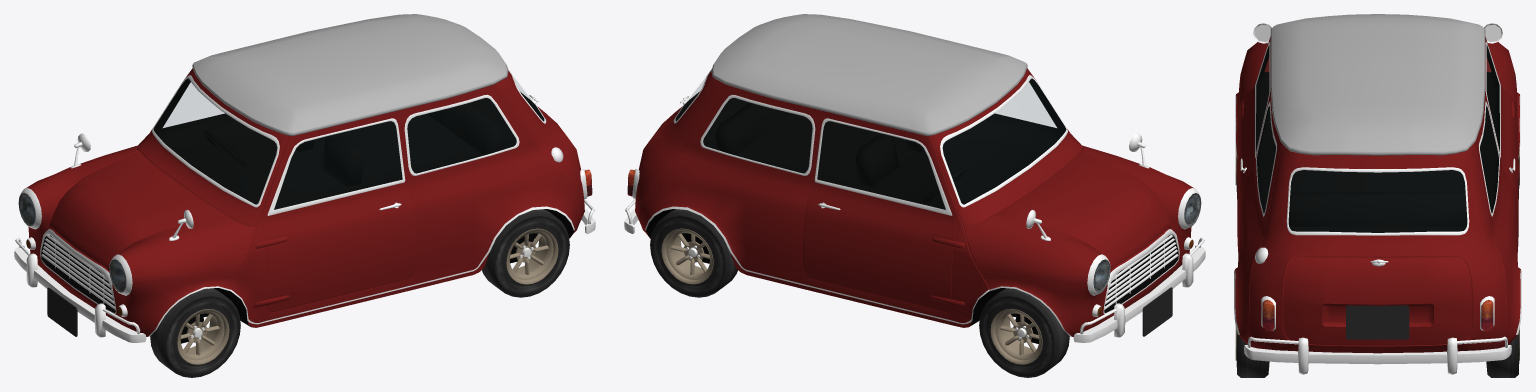
File: mini.glb
3 renders of one model, left to right at view 1: azimuth 30°, elevation 25°; view 2: azimuth 150°, elevation 25°; view 3: azimuth 270°, elevation 25°, orthographic. The views are drawn at different scales.
Visible parts, largest first — view 1: bodyshell_ASTNMINI_BODY_0, roof_ASTNMINI_ROOFCOLOUR_0, interior_ASTNMINI_VOID_0, bodyshell_chrometrim_ASTNMINI_CHROME_0, tier_ASTNMINI_tier_1t_0, tier001_ASTNMINI_tier_1t_0, bumper_front_ASTNMINI_CHROME_0, grill_ASTNMINI_CHROME_0, rim001_ASTNMINI_RIMCOLOUR_0, rim_ASTNMINI_RIMCOLOUR_0, grill_void_ASTNMINI_VOID_0, glass_ASTNMINI_GLASS_0 (+5 smaller); view 2: bodyshell_ASTNMINI_BODY_0, roof_ASTNMINI_ROOFCOLOUR_0, interior_ASTNMINI_VOID_0, bodyshell_chrometrim_ASTNMINI_CHROME_0, tier003_ASTNMINI_tier_1t_0, tier002_ASTNMINI_tier_1t_0, bumper_front_ASTNMINI_CHROME_0, grill_ASTNMINI_CHROME_0, rim002_ASTNMINI_RIMCOLOUR_0, rim003_ASTNMINI_RIMCOLOUR_0, glass_ASTNMINI_GLASS_0, grill_void_ASTNMINI_VOID_0 (+5 smaller); view 3: bodyshell_ASTNMINI_BODY_0, roof_ASTNMINI_ROOFCOLOUR_0, interior_ASTNMINI_VOID_0, bumper_rear_ASTNMINI_CHROME_0, bodyshell_chrometrim_ASTNMINI_CHROME_0, rear_numperplate, tier002_ASTNMINI_tier_1t_0, tier001_ASTNMINI_tier_1t_0, backlights_glass_ASTNMINI_headlights_ucb_0, sidemirrors_ASTNMINI_CHROME_0, backlights_trim_ASTNMINI_CHROME_0.
Part boxes in pixels (box(x1,y1,x2,y2)): bodyshell_ASTNMINI_BODY_0: box(25, 68, 584, 336); roof_ASTNMINI_ROOFCOLOUR_0: box(192, 14, 508, 135); interior_ASTNMINI_VOID_0: box(153, 78, 544, 209); bodyshell_chrometrim_ASTNMINI_CHROME_0: box(147, 69, 574, 336); tier_ASTNMINI_tier_1t_0: box(150, 288, 240, 377); tier001_ASTNMINI_tier_1t_0: box(482, 209, 569, 297); bumper_front_ASTNMINI_CHROME_0: box(14, 237, 146, 342); grill_ASTNMINI_CHROME_0: box(40, 229, 116, 314); rim001_ASTNMINI_RIMCOLOUR_0: box(506, 228, 558, 284); rim_ASTNMINI_RIMCOLOUR_0: box(177, 309, 229, 364); grill_void_ASTNMINI_VOID_0: box(41, 235, 115, 312); glass_ASTNMINI_GLASS_0: box(163, 78, 532, 127); bodyshell_ASTNMINI_BODY_0: box(635, 68, 1193, 336); roof_ASTNMINI_ROOFCOLOUR_0: box(711, 14, 1027, 135); interior_ASTNMINI_VOID_0: box(675, 78, 1066, 209); bodyshell_chrometrim_ASTNMINI_CHROME_0: box(645, 69, 1071, 336); tier003_ASTNMINI_tier_1t_0: box(979, 288, 1069, 377); tier002_ASTNMINI_tier_1t_0: box(650, 209, 737, 297); bumper_front_ASTNMINI_CHROME_0: box(1073, 237, 1205, 342); grill_ASTNMINI_CHROME_0: box(1103, 229, 1179, 314); rim002_ASTNMINI_RIMCOLOUR_0: box(661, 228, 713, 284); rim003_ASTNMINI_RIMCOLOUR_0: box(990, 309, 1042, 364); glass_ASTNMINI_GLASS_0: box(687, 78, 1056, 127); grill_void_ASTNMINI_VOID_0: box(1104, 235, 1178, 312); bodyshell_ASTNMINI_BODY_0: box(1235, 36, 1520, 353); roof_ASTNMINI_ROOFCOLOUR_0: box(1270, 14, 1485, 155); interior_ASTNMINI_VOID_0: box(1256, 45, 1499, 232); bumper_rear_ASTNMINI_CHROME_0: box(1244, 336, 1511, 374); bodyshell_chrometrim_ASTNMINI_CHROME_0: box(1234, 42, 1521, 334); rear_numperplate: box(1346, 305, 1409, 339); tier002_ASTNMINI_tier_1t_0: box(1486, 330, 1519, 377); tier001_ASTNMINI_tier_1t_0: box(1236, 330, 1269, 377); backlights_glass_ASTNMINI_headlights_ucb_0: box(1262, 300, 1493, 331); sidemirrors_ASTNMINI_CHROME_0: box(1253, 23, 1502, 43); backlights_trim_ASTNMINI_CHROME_0: box(1261, 296, 1494, 330).
Size of the model in its own units: 120 by 52.59 by 56.24.
9 materials, 2 textured.
